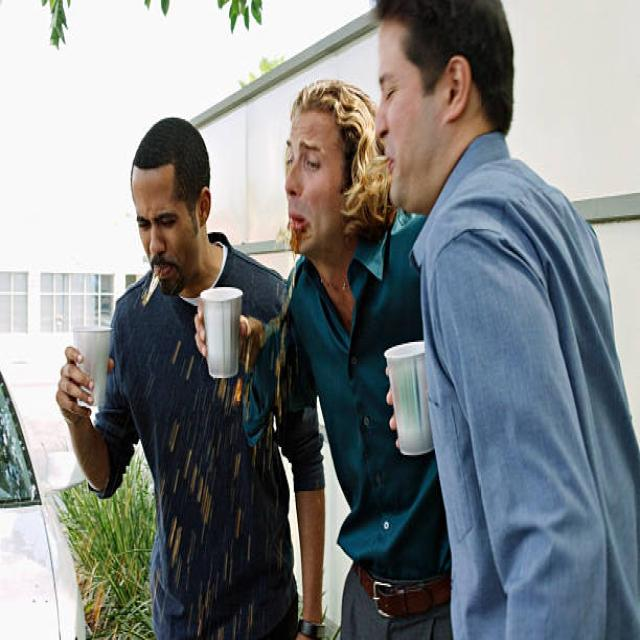Spitting: (270, 75, 370, 334), (112, 110, 210, 310)
